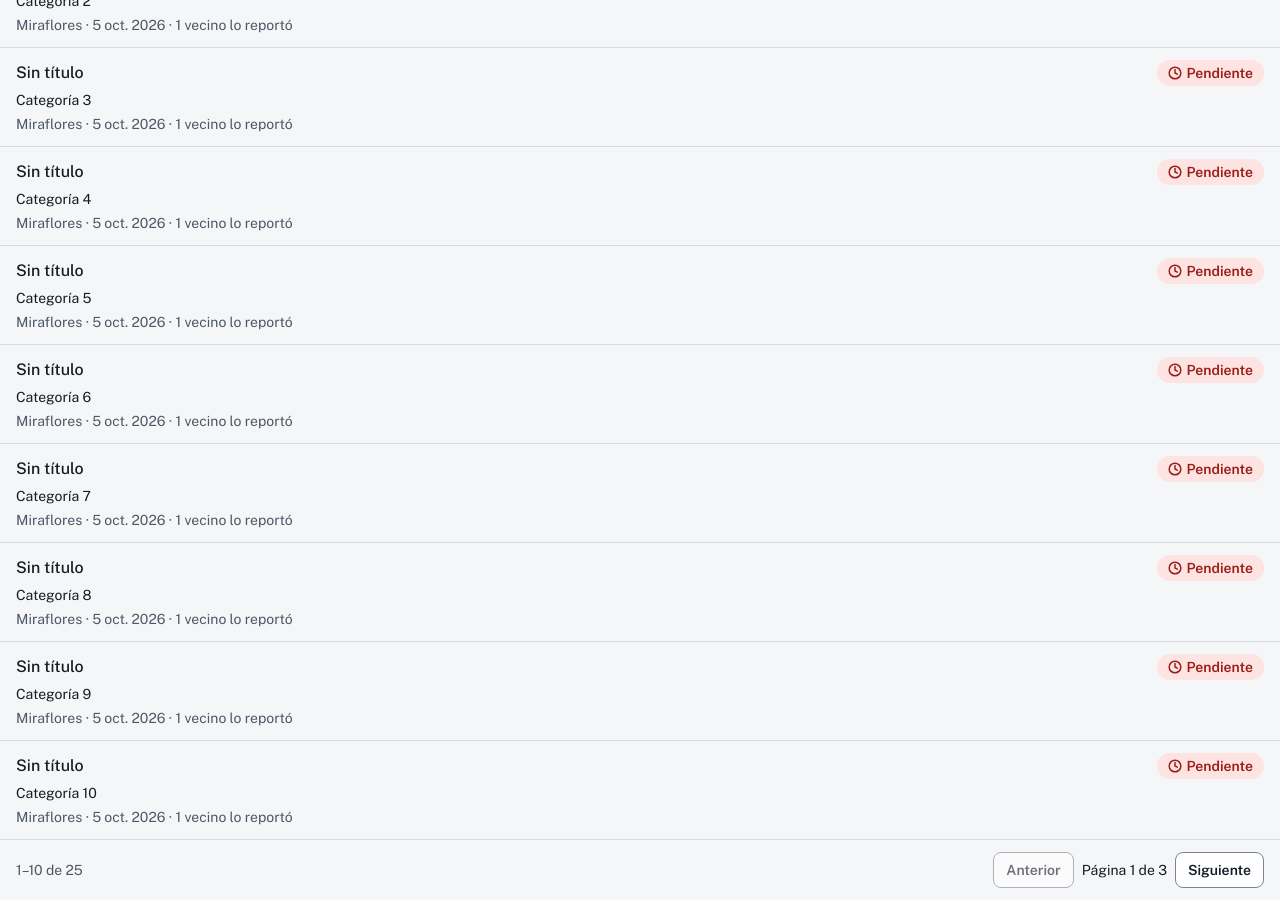
Test case: ListaReportes › pagina los resultados y navega entre páginas
The width and height of the screenshot is (1280, 900).
(page scrolled)
Expected: the text "1–10 de 25" is shown, [16, 860, 83, 880]
Expected: the button "Anterior" is disabled, [993, 852, 1074, 888]
Click the button "Siguiente" at x=1220, y=870, box [1175, 852, 1264, 888]
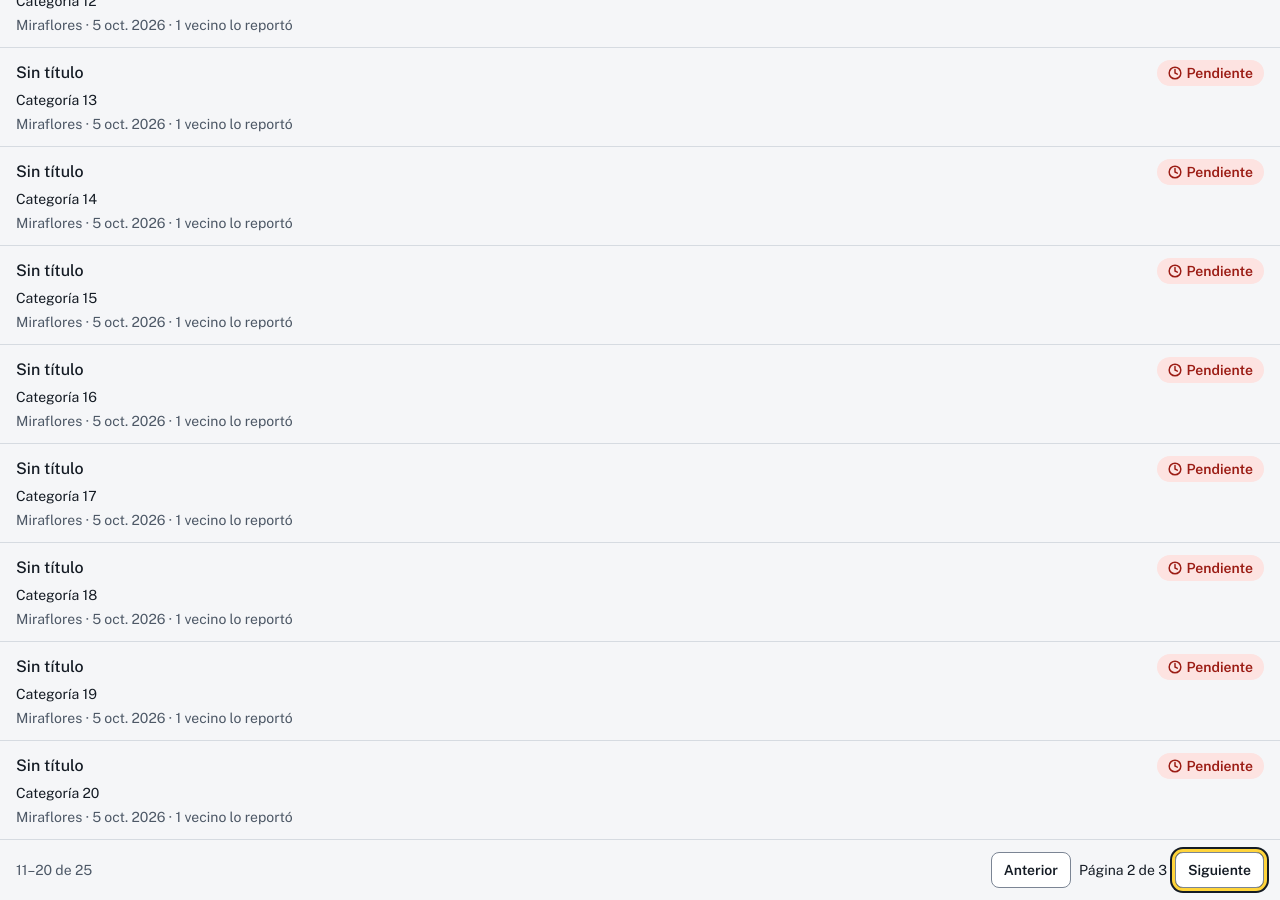
Click the button "Siguiente" at x=1220, y=870, box [1175, 852, 1264, 888]
(page scrolled)
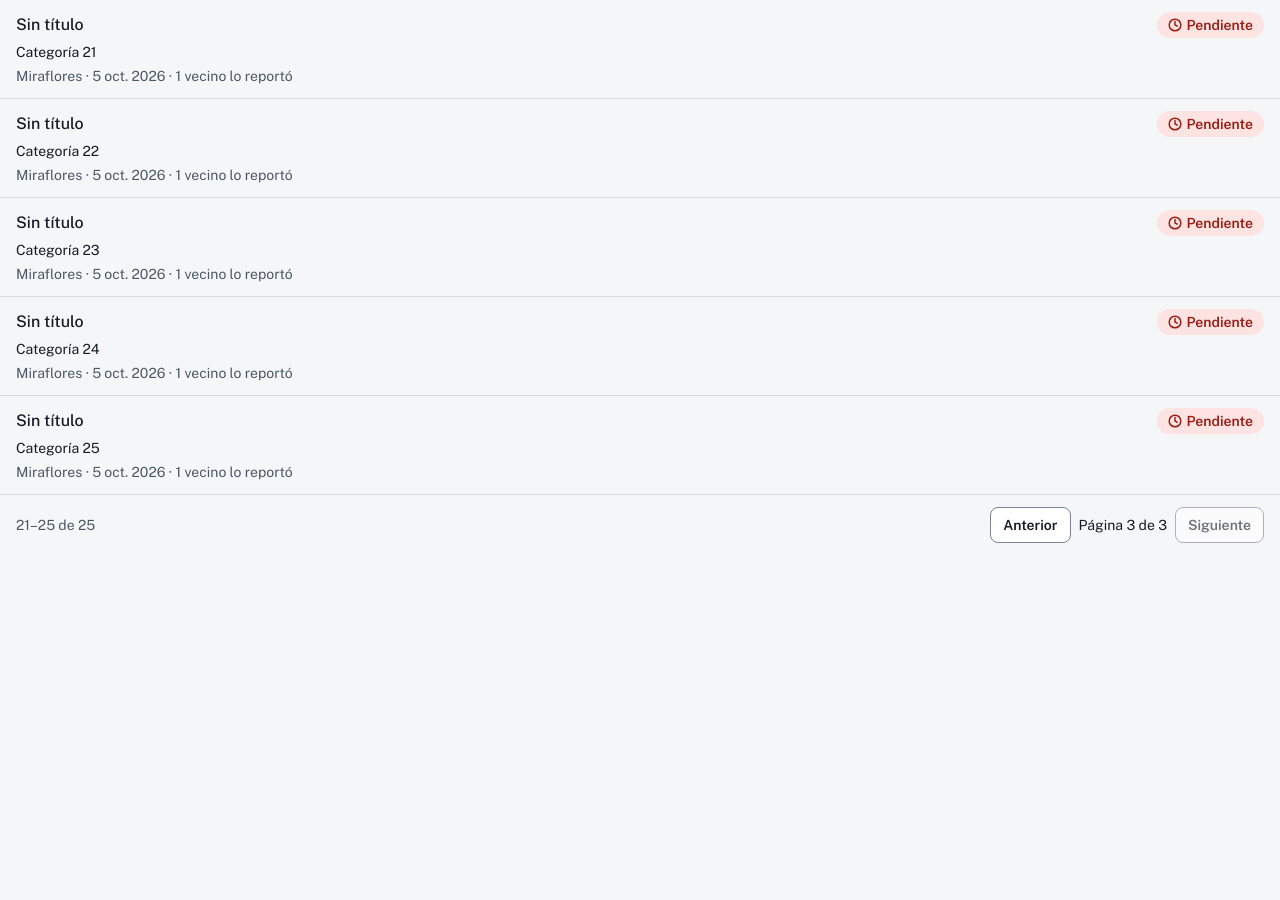
Result: the number of links is 5 at [0, 0, 1279, 98]; [0, 99, 1279, 197]; [0, 198, 1279, 296]; [0, 297, 1279, 395]; [0, 396, 1279, 494]
Result: the text "21–25 de 25" is shown at [16, 515, 95, 535]
Result: the text "Página 3 de 3" is shown at [1078, 515, 1167, 535]
Click the button "Anterior" at x=1030, y=525, box [990, 507, 1070, 543]
(page scrolled)
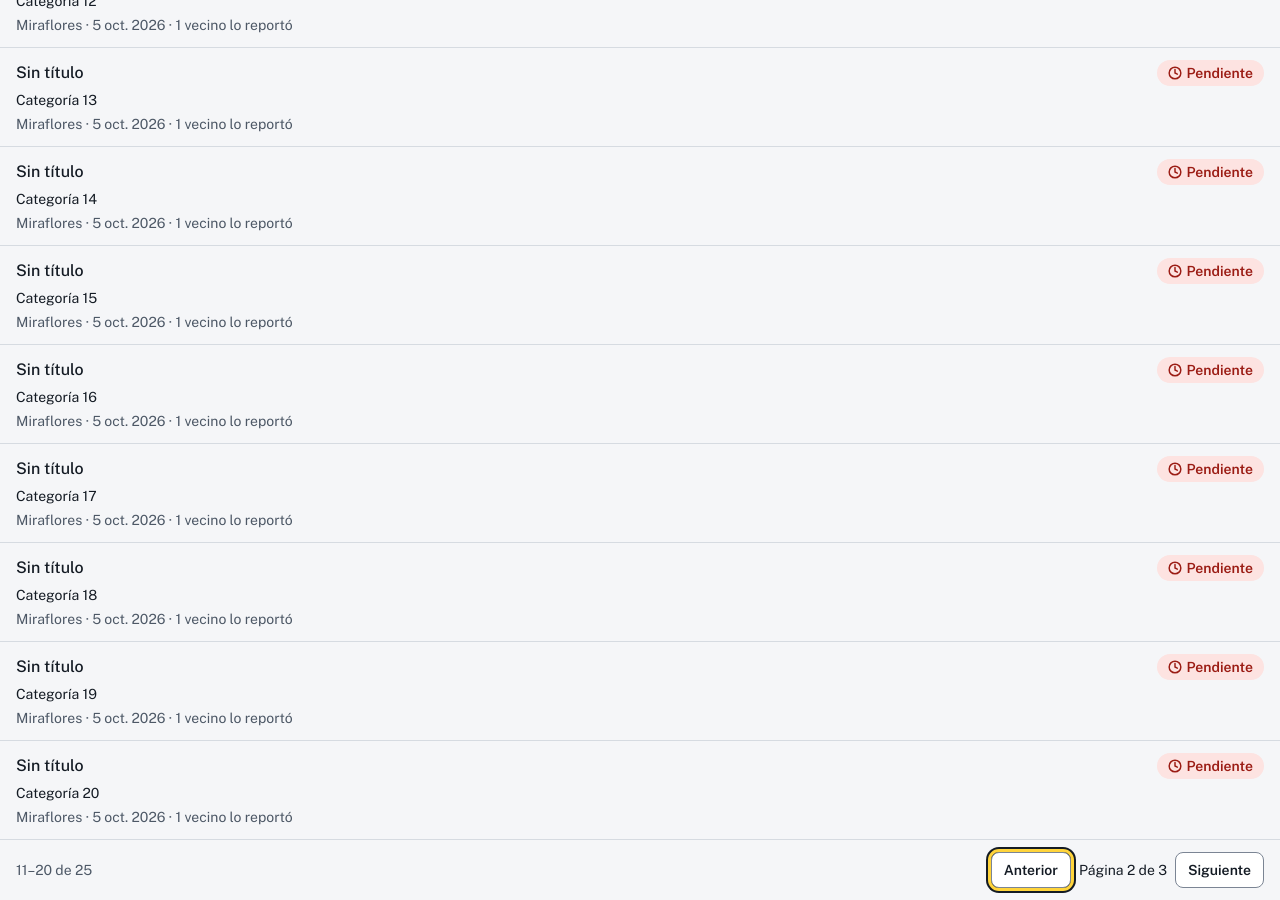
Result: the text "11–20 de 25" is shown at [16, 860, 92, 880]
